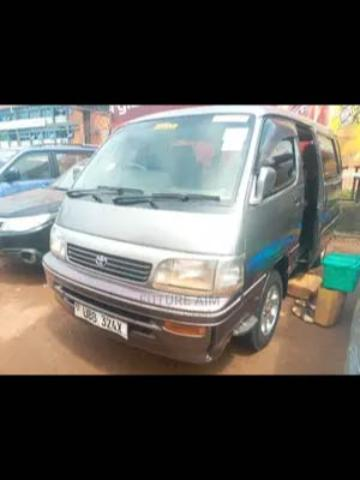van: (41, 105, 341, 362)
